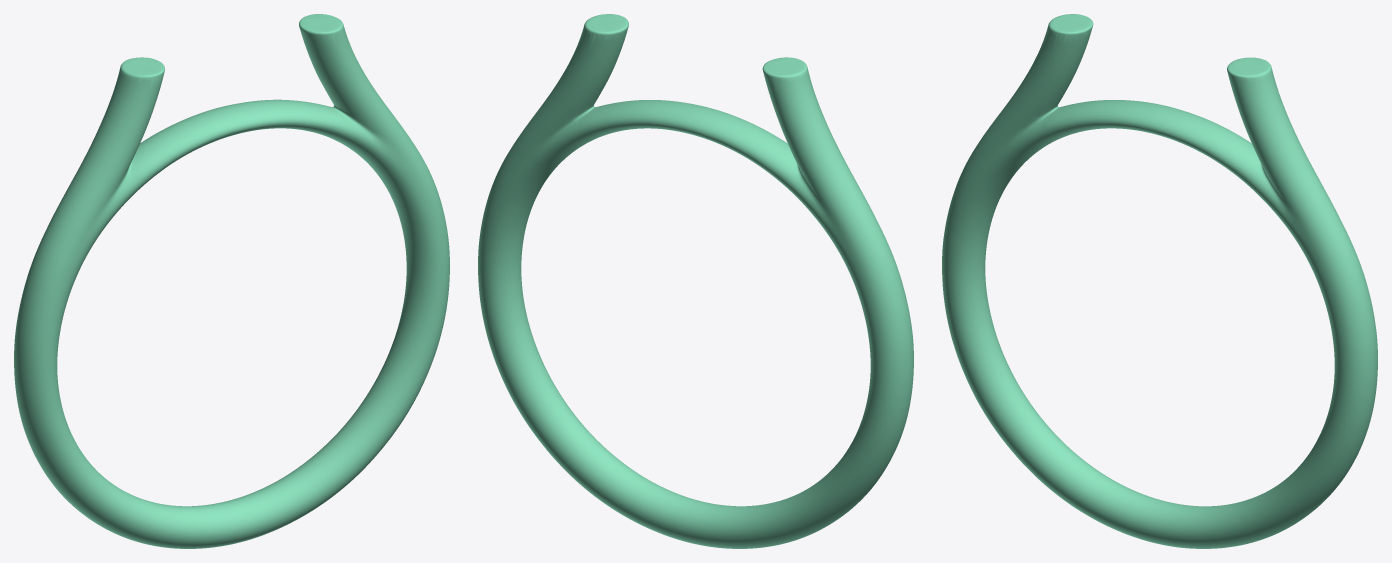
3 views of the same model, side by side, from view 1: azimuth 30°, elevation 25°; view 2: azimuth 150°, elevation 25°; view 3: azimuth 330°, elevation 25° (orthographic).
Visible parts, largest first — view 1: Metal02; view 2: Metal02; view 3: Metal02.
Part boxes in pixels (x1,y1,x2,y2): Metal02: (14, 14, 449, 548); Metal02: (478, 14, 913, 548); Metal02: (942, 14, 1377, 548).
Size of the model in its own units: 20.88 by 23.08 by 2.
